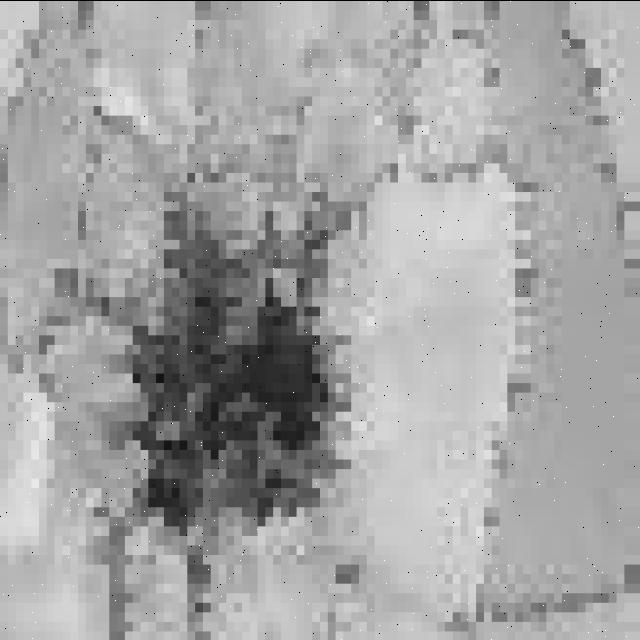good_void: (52, 184, 370, 584)
